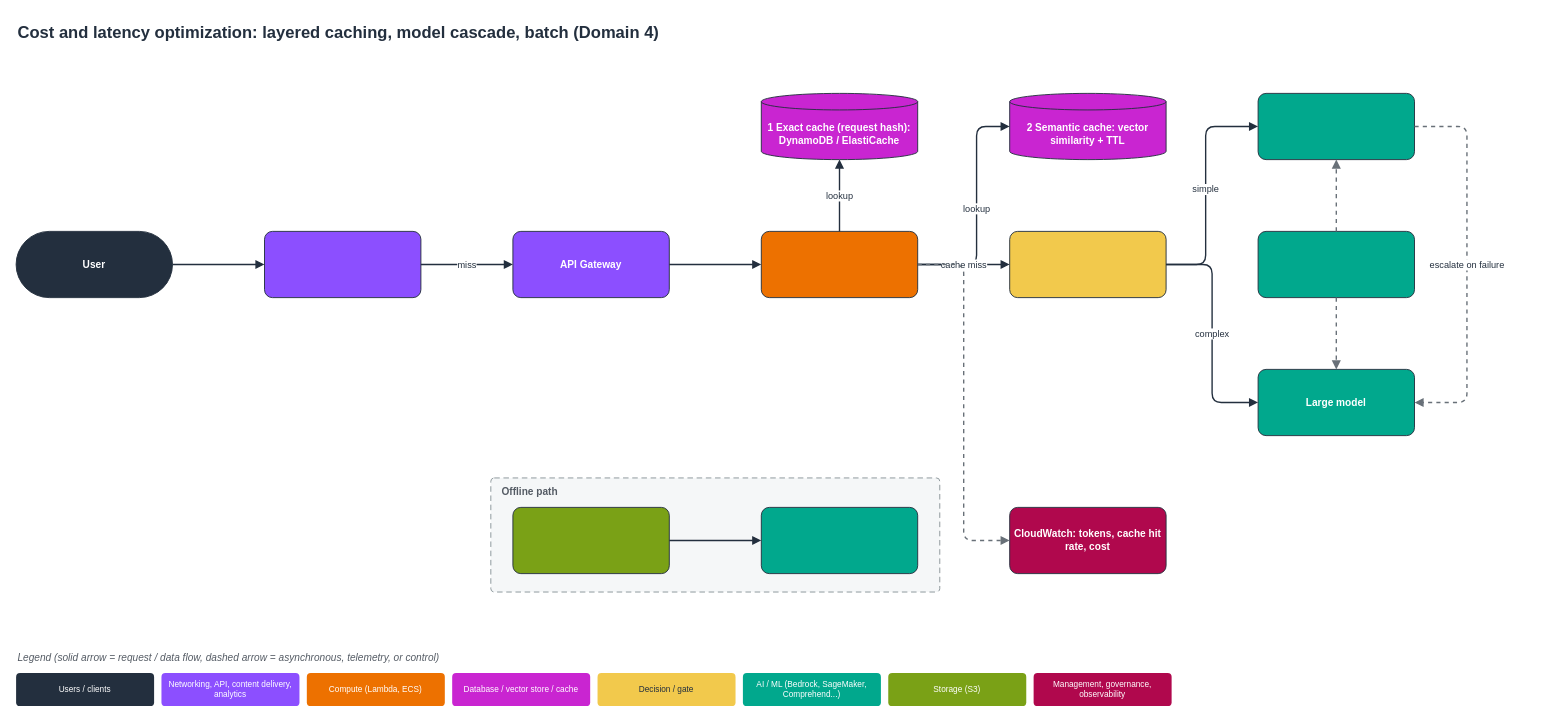
Image size: 1550x721. Some labels were removed from this diagram. Each missing label, with the centre of its shape:
3 Router: classify complexity: (1087,264)
Batch inference: offline, about 50% lower price: (839,540)
Bedrock prompt caching (static prefix): (1335,264)
CloudFront: edge cache for public answers: (342,264)
Orchestrator Lambda: (839,264)
S3 JSONL input: (590,540)
Small model: (1335,126)
